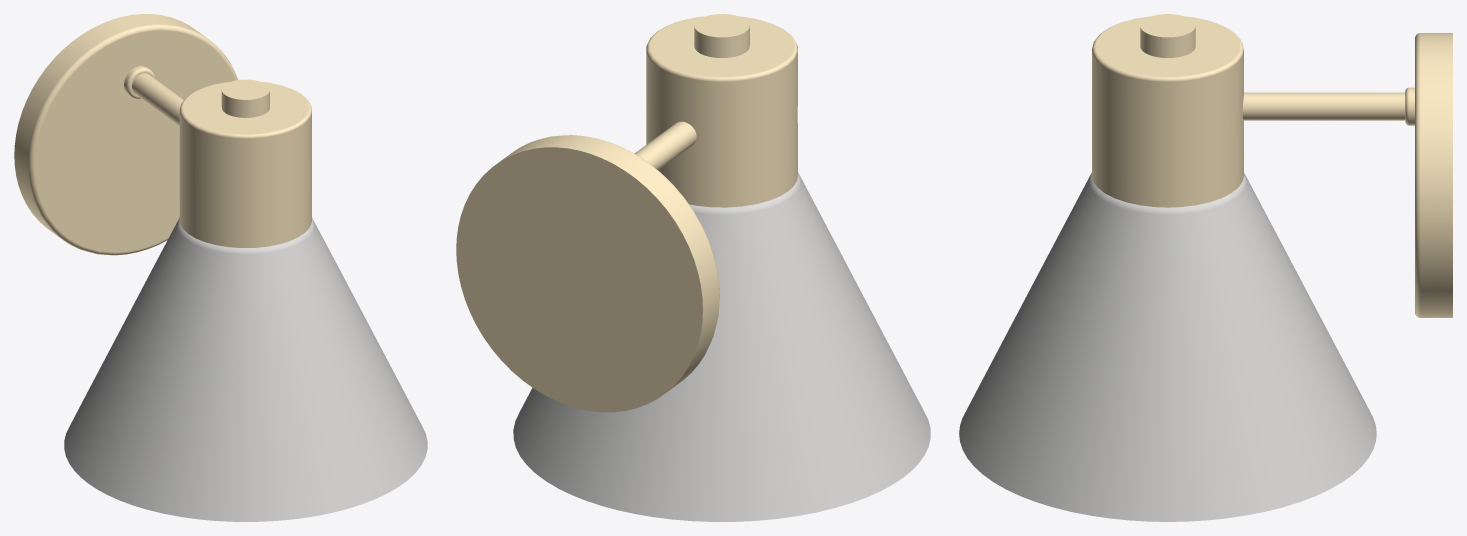
File: 756_wall_lamp.glb
3 views of the same model, side by side, from view 1: azimuth 30°, elevation 25°; view 2: azimuth 150°, elevation 25°; view 3: azimuth 270°, elevation 25° (orthographic). The views are drawn at different scales.
Parts seen in each view (by area): view 1: Body; view 2: Body; view 3: Body.
Boxes of the visible parts, left/top/right/bottom form: Body: left=14, top=14, right=427, bottom=521; Body: left=456, top=14, right=930, bottom=521; Body: left=959, top=14, right=1452, bottom=521.
Size of the model in its own units: 0.2199 by 0.237 by 0.2599.
